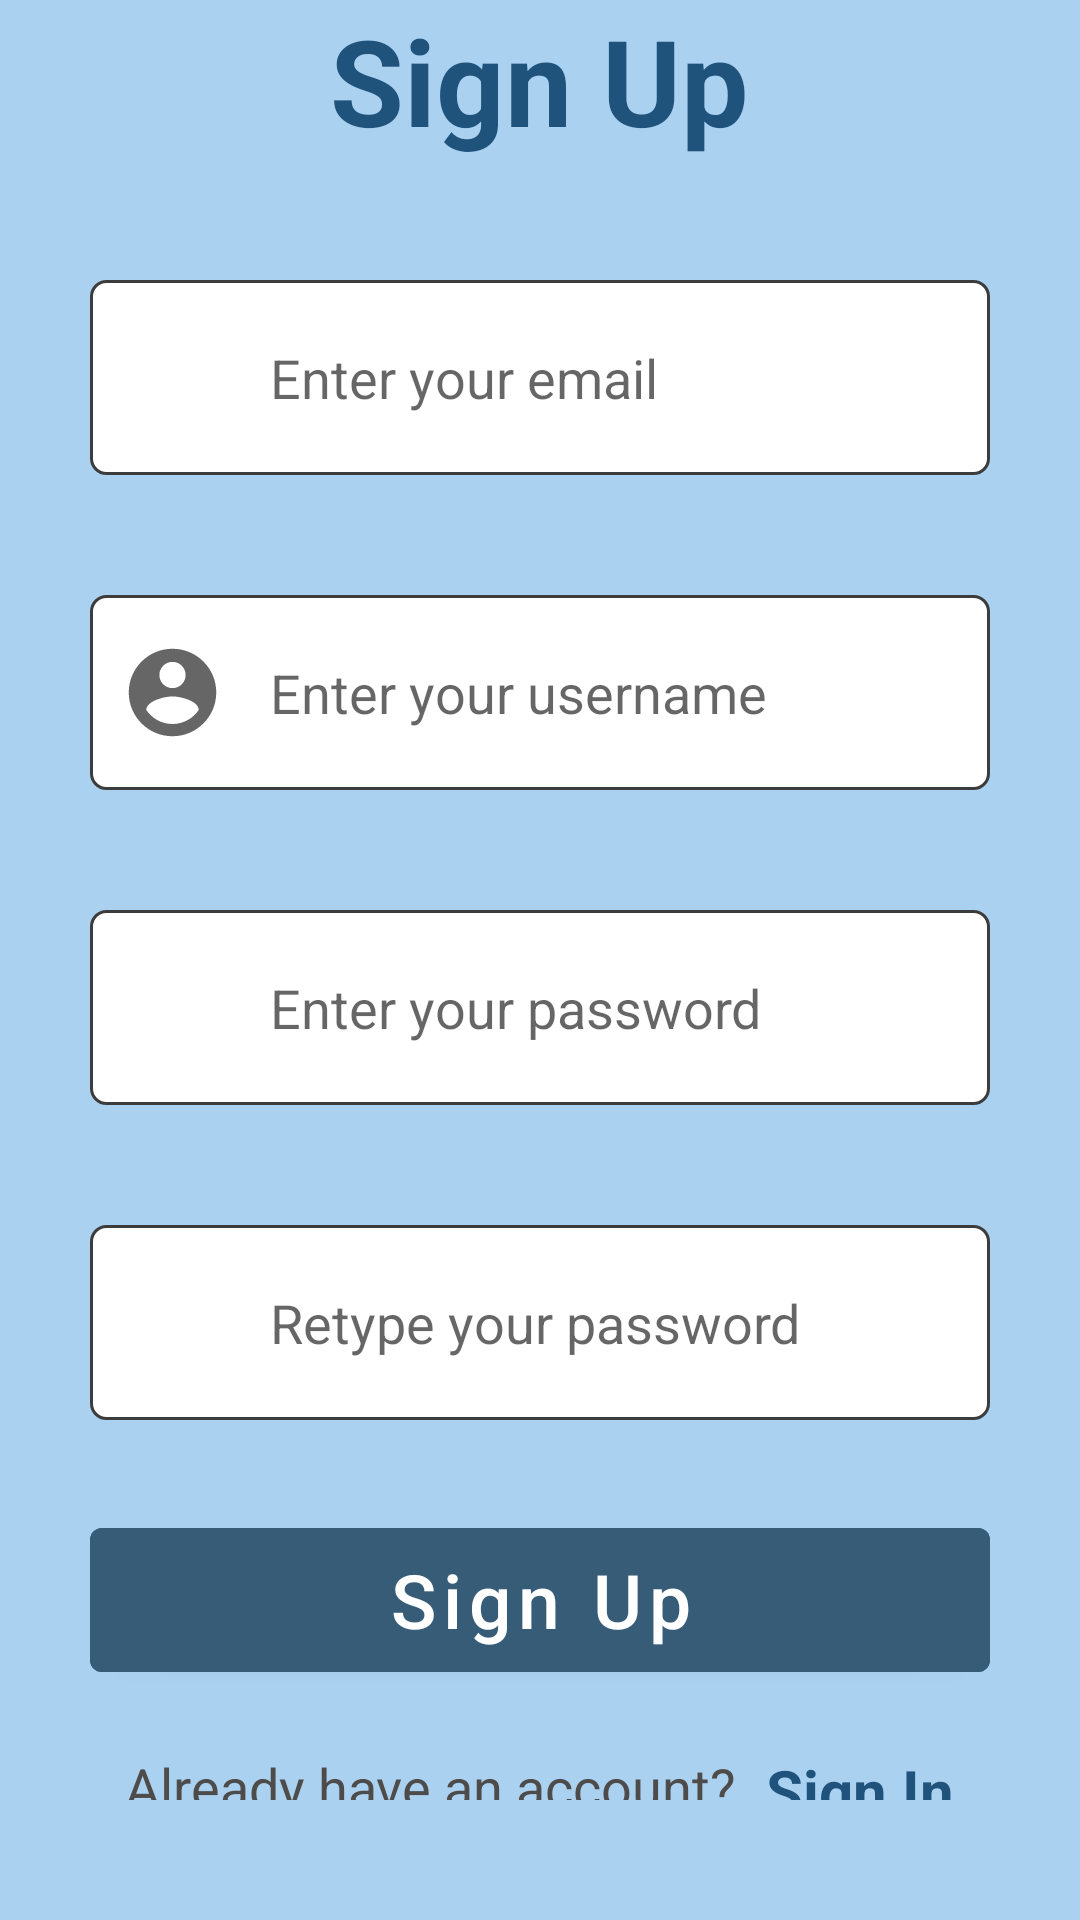

Point at icon controls on the screen. Image size 1080*1920, points as (x,y).
account circle: (172,692)
